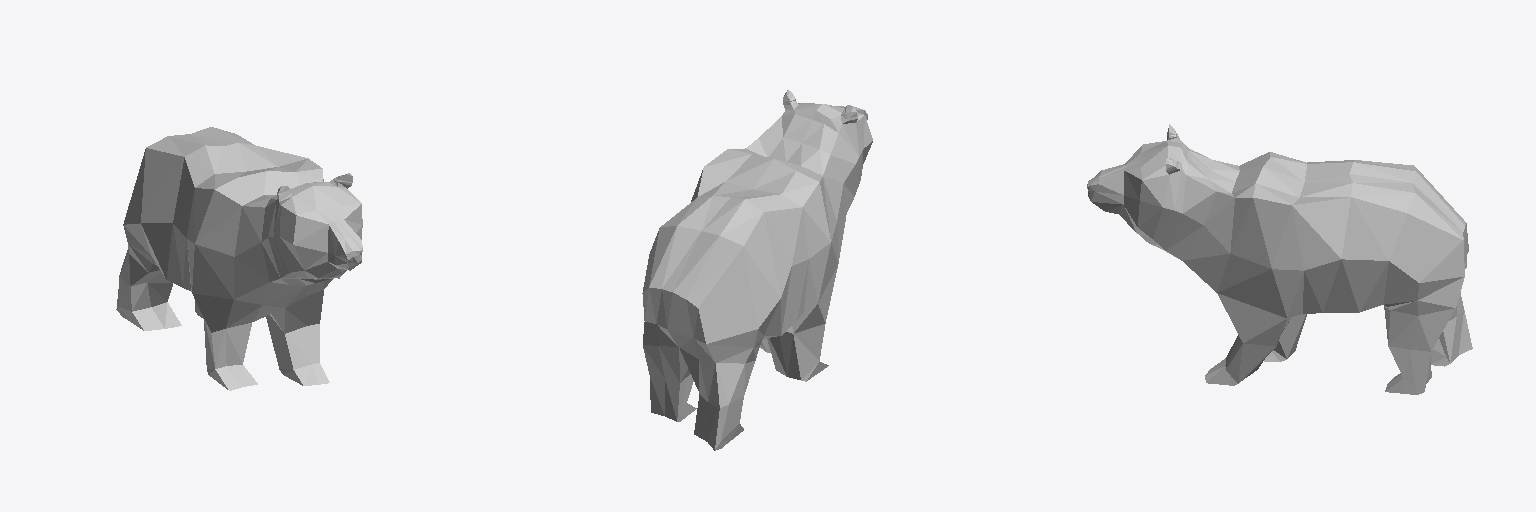
Rendered from bear.obj.
The picture shows the model from 3 angles: view 1: azimuth 30°, elevation 25°; view 2: azimuth 150°, elevation 25°; view 3: azimuth 270°, elevation 25°; orthographic projection.
Size of the model in its own units: 1.03 by 1.8 by 2.68.